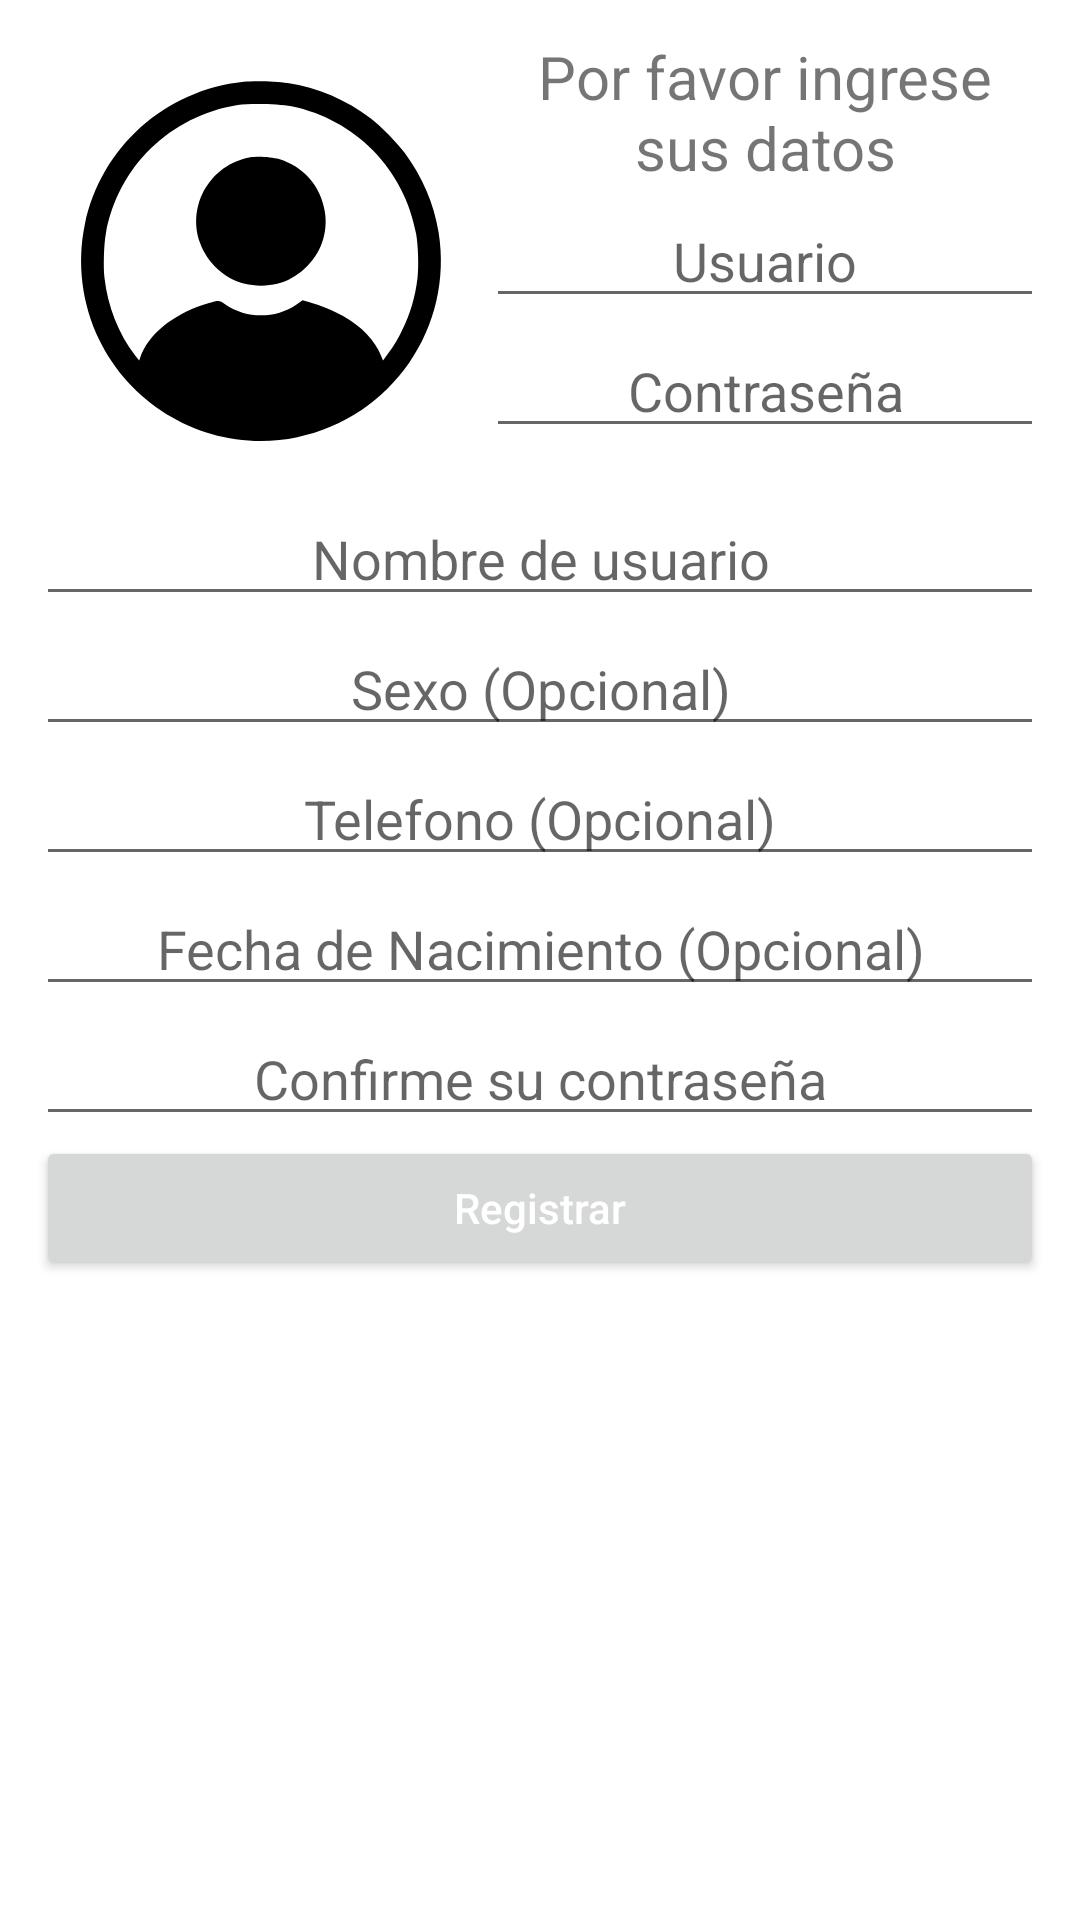

Where icons sit on this 1080px x 1920px app screen, as (x1, y1, x2, y2):
user: (81, 81, 441, 441)
